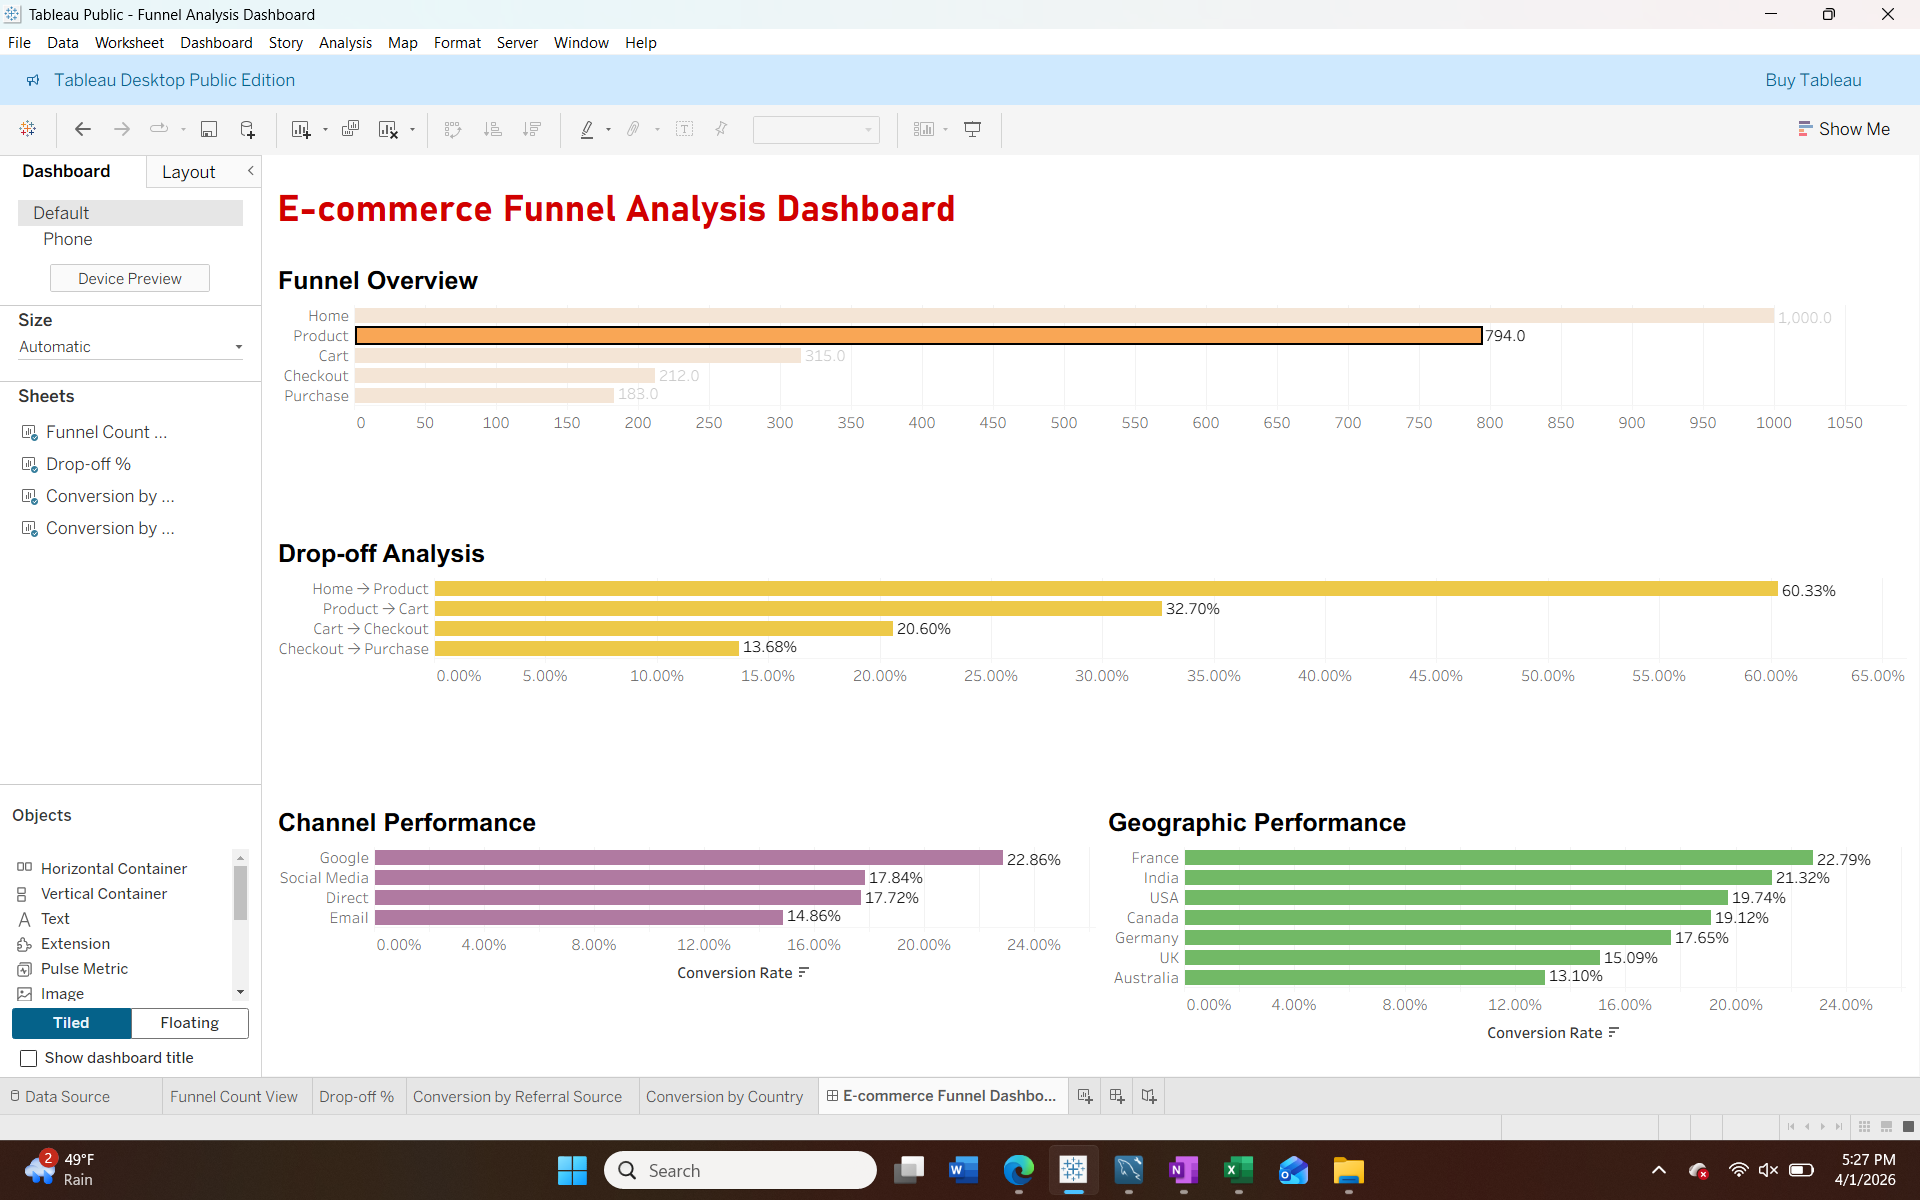

This screenshot's page, from the dashboard's own definition file:
{"tool":"tableau","page":{"name":"E-commerce Funnel Dashboard","canvas":[1000,1000],"units":"permille","ordinal":0},"visuals":[{"type":"text","box":[4.8,8.7,990.3,103.1]},{"type":"worksheet","title":"Funnel Count View","mark":"Automatic","box":[4.8,111.8,990.3,296.7]},{"type":"worksheet","title":"Drop-off %","mark":"Automatic","box":[4.8,408.6,990.3,291.4]},{"type":"worksheet","title":"Conversion by Referral Source","mark":"Automatic","rows":["ReferralSource"],"cols":["Purchased"],"box":[4.8,699.9,501.2,291.4]},{"type":"worksheet","title":"Conversion by Country","mark":"Automatic","rows":["Country"],"cols":["Purchased"],"box":[506,699.9,489.1,291.4]}]}

Visuals, with their boxes on the dashboard's canvas, which has no fixed pixel size, in thousandths of its width and height (x1, y1, x2, y2). These are canvas units, not pixel positions in the 1920x1200 screenshot, which may show the page scaled, cropped or inside an application window:
text: locate(5, 9, 995, 112)
"Funnel Count View" worksheet: locate(5, 112, 995, 408)
"Drop-off %" worksheet: locate(5, 409, 995, 700)
"Conversion by Referral Source" worksheet: locate(5, 700, 506, 991)
"Conversion by Country" worksheet: locate(506, 700, 995, 991)
